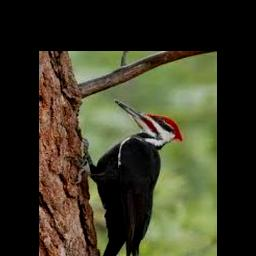Woodpecker: (69, 99, 183, 256)
